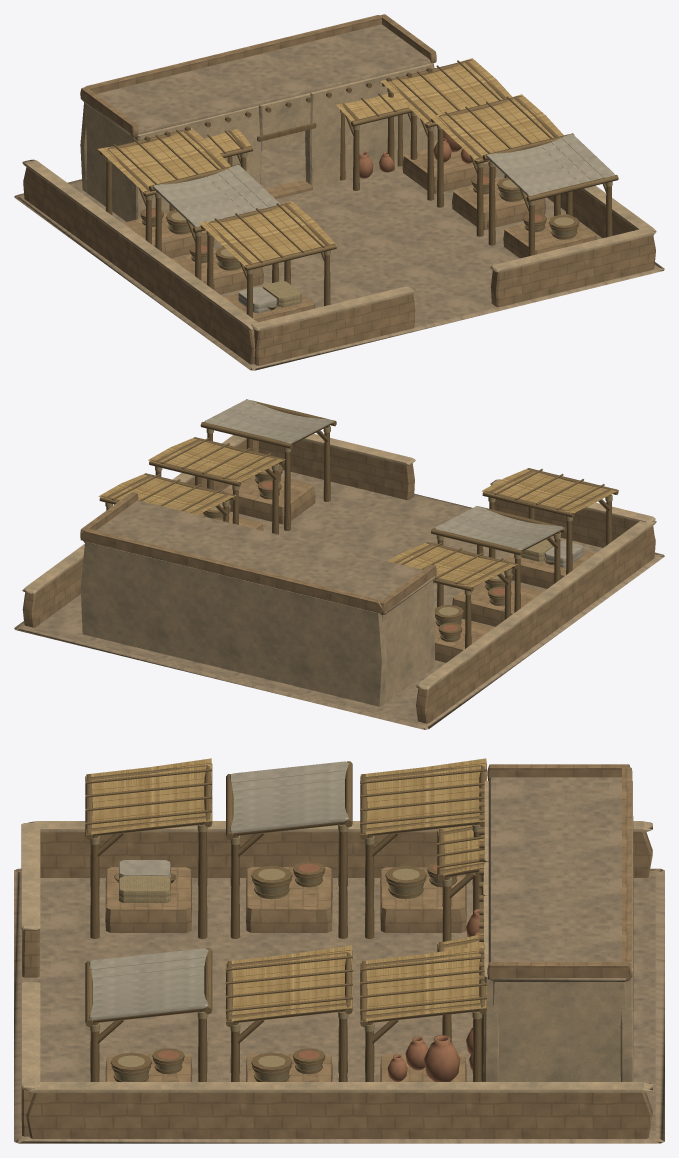
File: market.glb
The picture shows the model from 3 angles, top to bottom: view 1: azimuth 30°, elevation 25°; view 2: azimuth 150°, elevation 25°; view 3: azimuth 270°, elevation 25°; orthographic projection. The views are drawn at different scales.
Visible parts, largest first — view 1: original-market-alluvial-earth, original-market-game-raw-brick-facing, original-market-warm-clay-plaster, original-market-worn-timber, original-market-laid-reed-thatch, original-market-woven-linen, original-market-reed-mat, original-market-fired-pottery; view 2: original-market-warm-clay-plaster, original-market-alluvial-earth, original-market-game-raw-brick-facing, original-market-worn-timber, original-market-laid-reed-thatch, original-market-woven-linen, original-market-reed-mat; view 3: original-market-alluvial-earth, original-market-game-raw-brick-facing, original-market-worn-timber, original-market-warm-clay-plaster, original-market-laid-reed-thatch, original-market-woven-linen, original-market-reed-mat, original-market-fired-pottery.
Boxes of the visible parts, bbox=[...] form: original-market-alluvial-earth: bbox=[14, 24, 664, 370]; original-market-game-raw-brick-facing: bbox=[23, 14, 655, 365]; original-market-warm-clay-plaster: bbox=[22, 63, 656, 331]; original-market-worn-timber: bbox=[99, 59, 618, 318]; original-market-laid-reed-thatch: bbox=[98, 58, 563, 267]; original-market-woven-linen: bbox=[152, 134, 614, 313]; original-market-reed-mat: bbox=[105, 88, 612, 307]; original-market-fired-pottery: bbox=[144, 130, 542, 252]; original-market-warm-clay-plaster: bbox=[22, 434, 656, 706]; original-market-alluvial-earth: bbox=[14, 470, 664, 729]; original-market-game-raw-brick-facing: bbox=[22, 439, 655, 723]; original-market-worn-timber: bbox=[99, 399, 618, 648]; original-market-laid-reed-thatch: bbox=[98, 438, 618, 586]; original-market-woven-linen: bbox=[204, 399, 583, 567]; original-market-reed-mat: bbox=[105, 426, 612, 642]; original-market-alluvial-earth: bbox=[14, 777, 664, 1143]; original-market-game-raw-brick-facing: bbox=[21, 764, 652, 1138]; original-market-worn-timber: bbox=[85, 761, 486, 1081]; original-market-warm-clay-plaster: bbox=[21, 780, 652, 1092]; original-market-laid-reed-thatch: bbox=[86, 758, 486, 1021]; original-market-woven-linen: bbox=[89, 761, 348, 1020]; original-market-reed-mat: bbox=[90, 824, 483, 1081]; original-market-fired-pottery: bbox=[158, 863, 479, 1081].
Size of the model in its own units: 11.54 by 2.79 by 11.54.
Materials: 9 (8 with a texture image).
